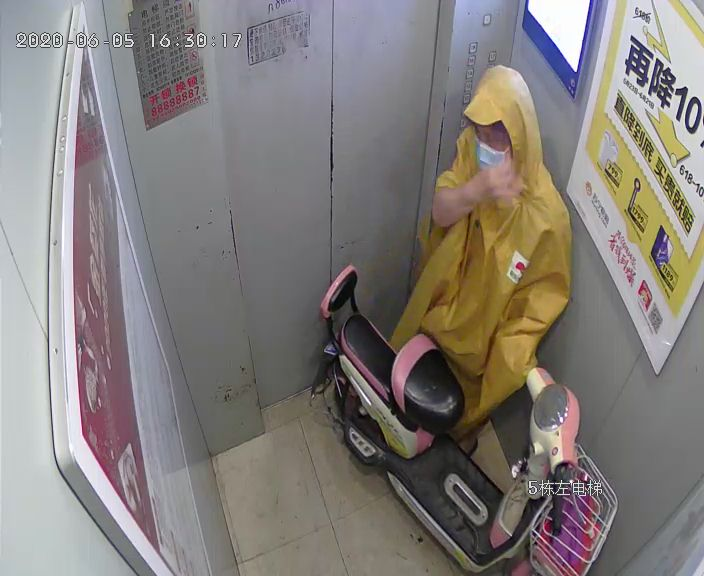Electric-bicycle: (317, 265, 616, 575)
